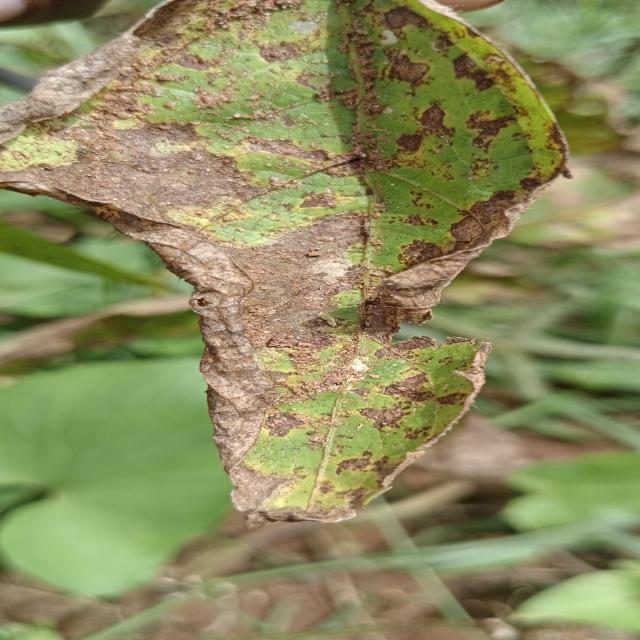Black gram_leaf spot: (0, 0, 590, 530)
